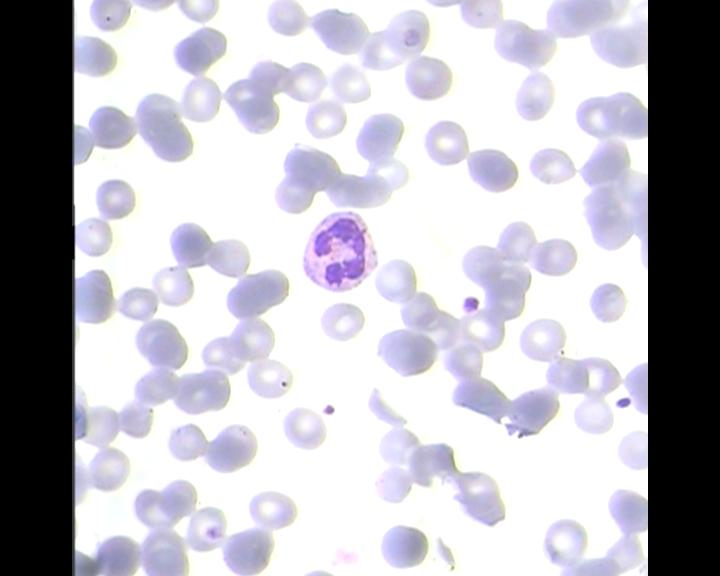neut: (296, 209, 377, 291)
